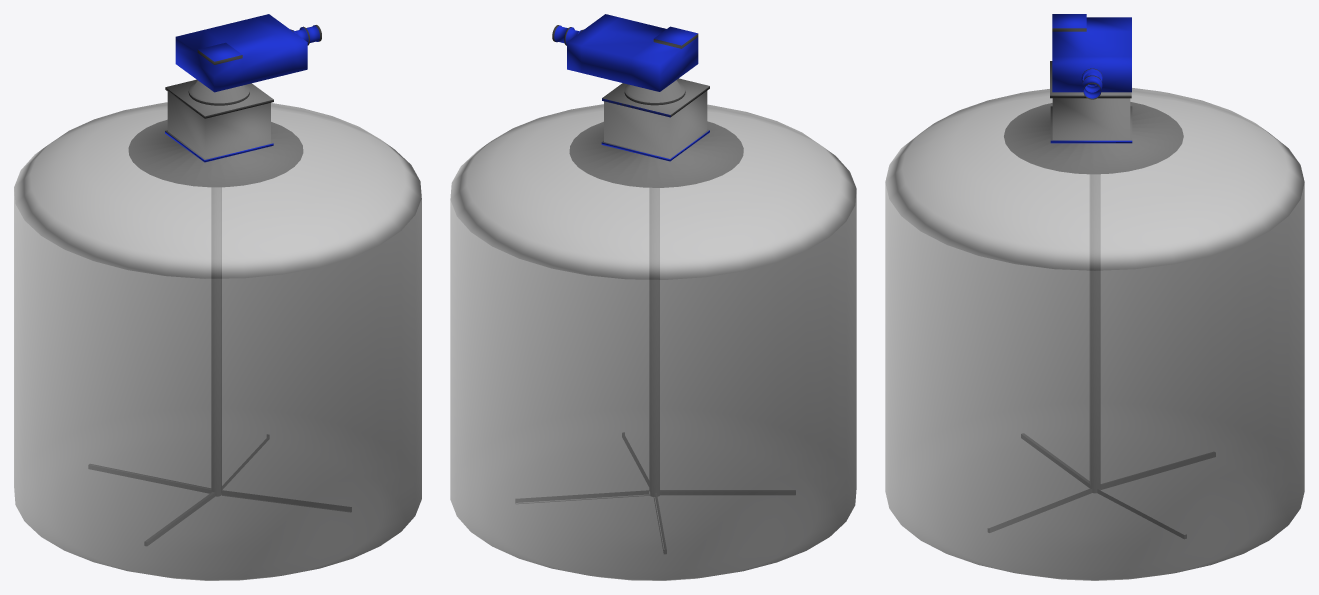
File: MiX_new.fbx
3 views of the same model, side by side, from view 1: azimuth 30°, elevation 25°; view 2: azimuth 150°, elevation 25°; view 3: azimuth 270°, elevation 25° (orthographic). The views are drawn at different scales.
Parts seen in each view (by area): view 1: Circle; view 2: Circle; view 3: Circle.
Boxes of the visible parts, x1,y1,x2,y2 form: Circle: (14,14,421,580); Circle: (450,14,856,580); Circle: (885,14,1304,580).
Bounding box in the file's own units: 300 × 405 × 300.
